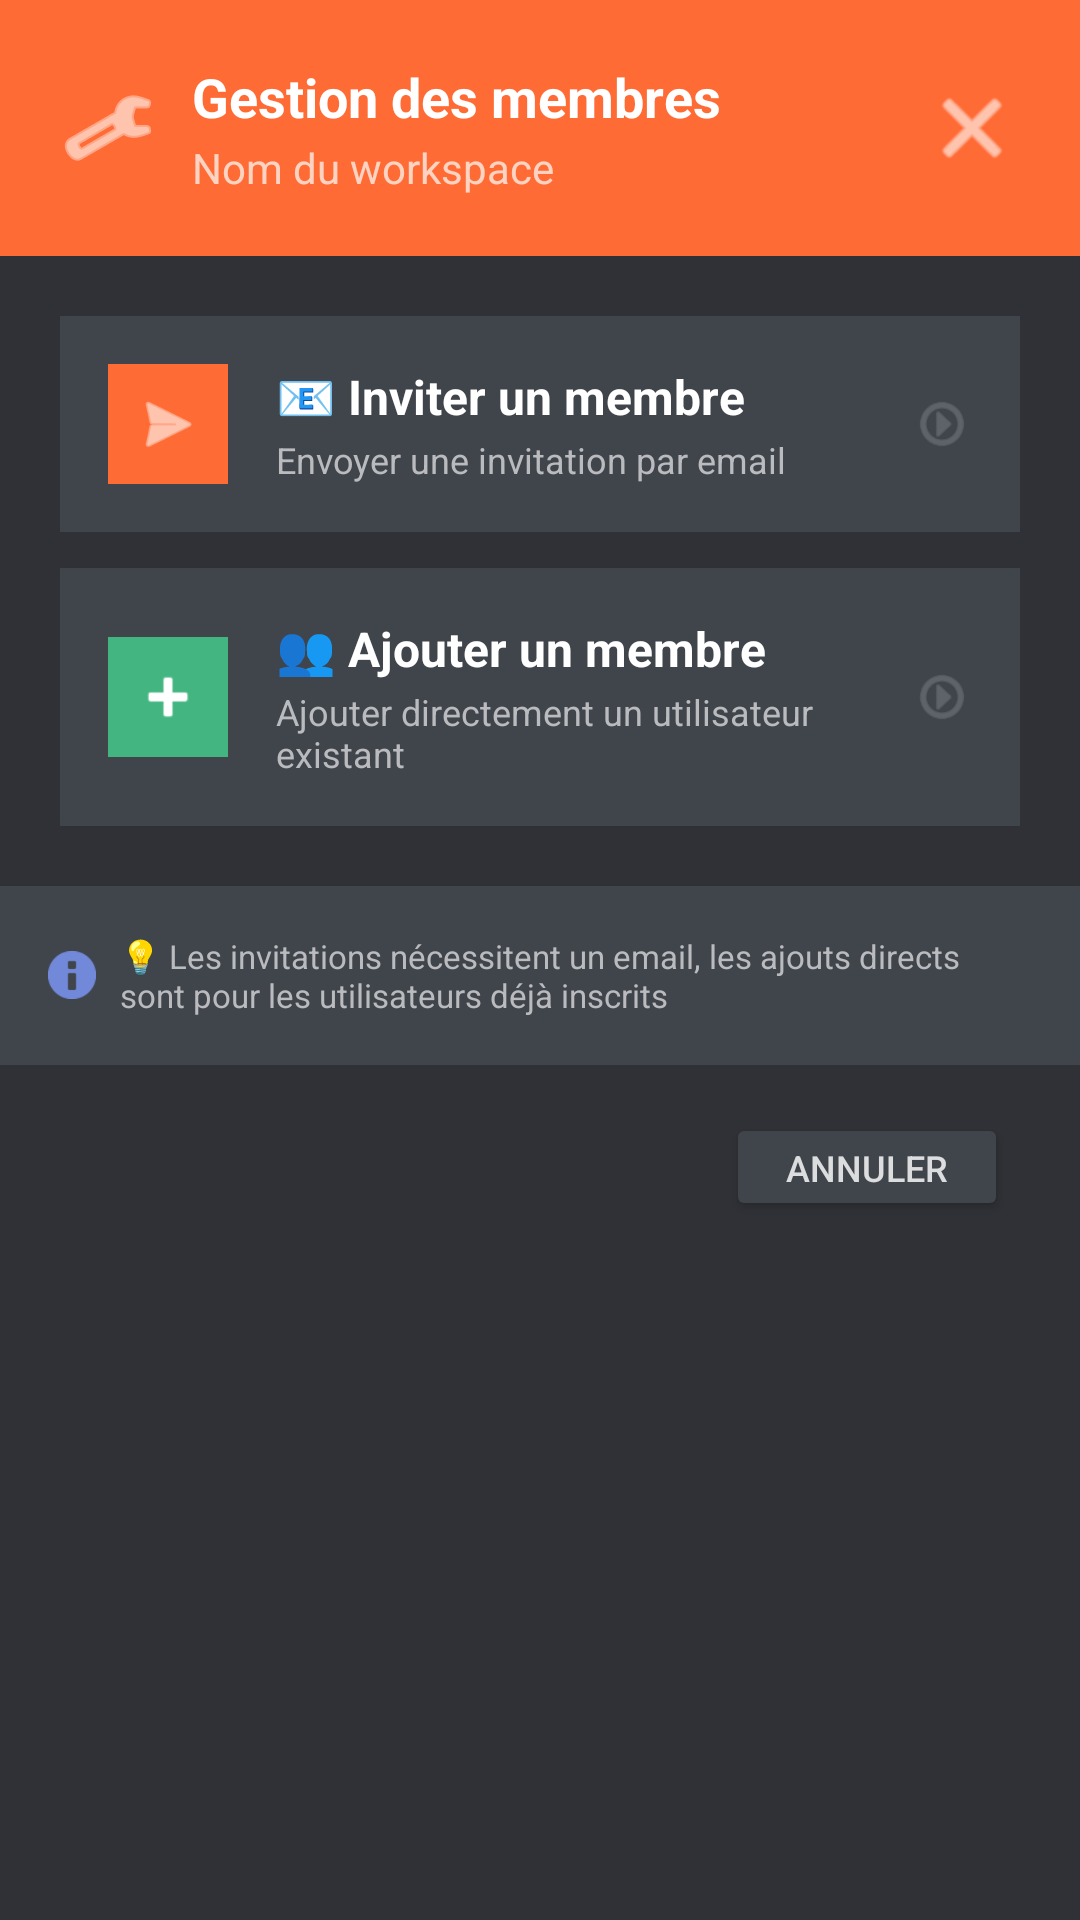

Named icons in this screenshot (1080px x 1920px) and their bounding boxes, BBox(x1, y1, x2, y2):
add: BBox(108, 637, 228, 757)
Fermer: BBox(942, 98, 1002, 158)
info: BBox(48, 951, 96, 999)
manage: BBox(65, 95, 151, 161)
send: BBox(108, 364, 228, 484)
